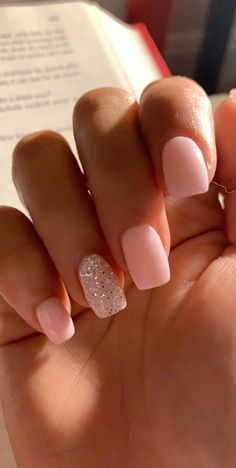nails: (63, 247, 141, 323), (105, 220, 185, 292), (150, 130, 218, 200), (27, 292, 82, 346)
